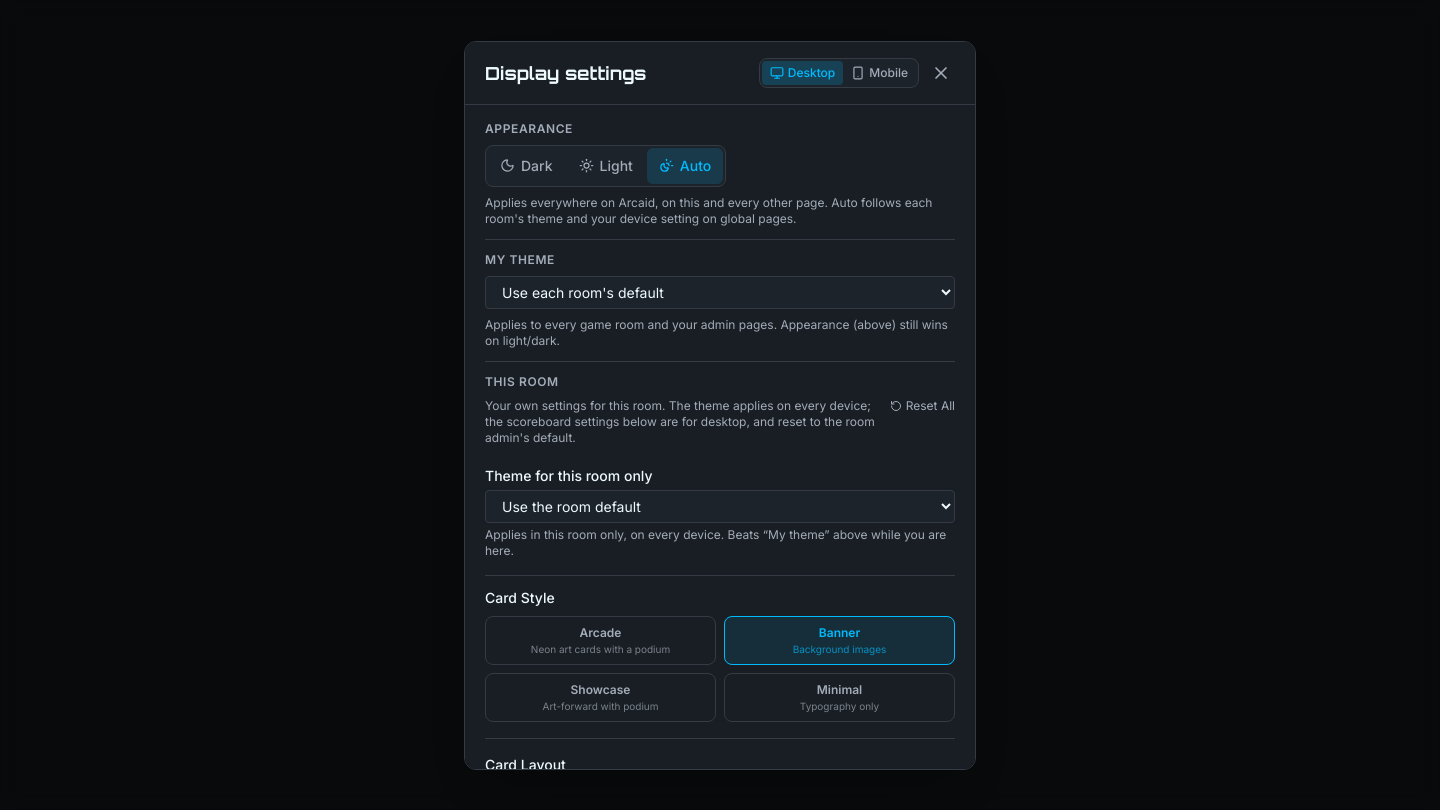
it: ScoreboardPreferencesModal — Reset All › asks for confirmation inline before resetting
Expected: the text "Card Style" is shown, [485, 588, 555, 608]
Expected: the text "Reset everything" is not shown
Click the button "Reset All".
click(922, 406)  # box [890, 398, 955, 414]
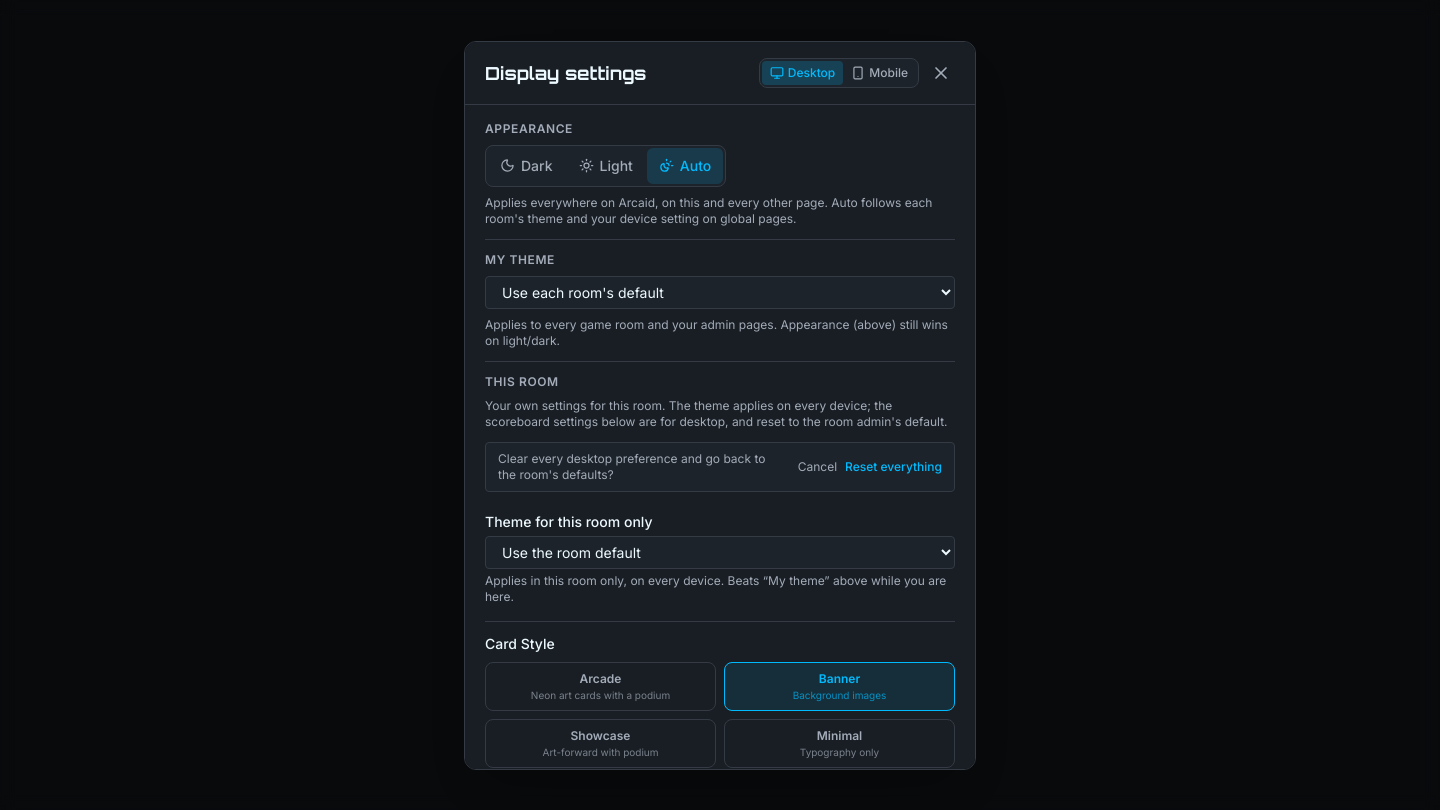
Now the button "Reset everything" is shown, box [845, 458, 942, 474]
Backing out leaves nothing saved.
Click the button "Cancel".
click(817, 466)  # box [798, 458, 837, 474]
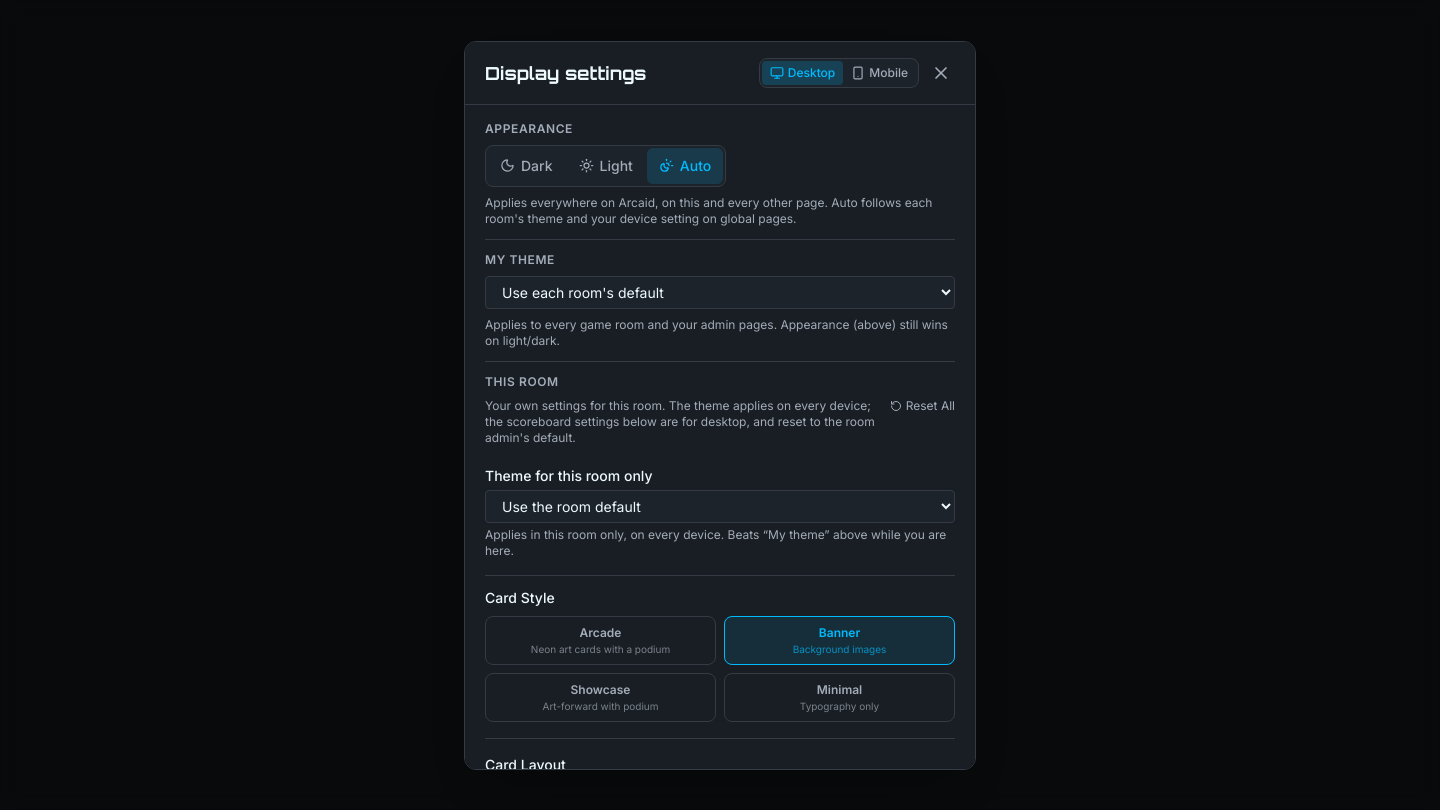
Now the button "Reset everything" is gone
